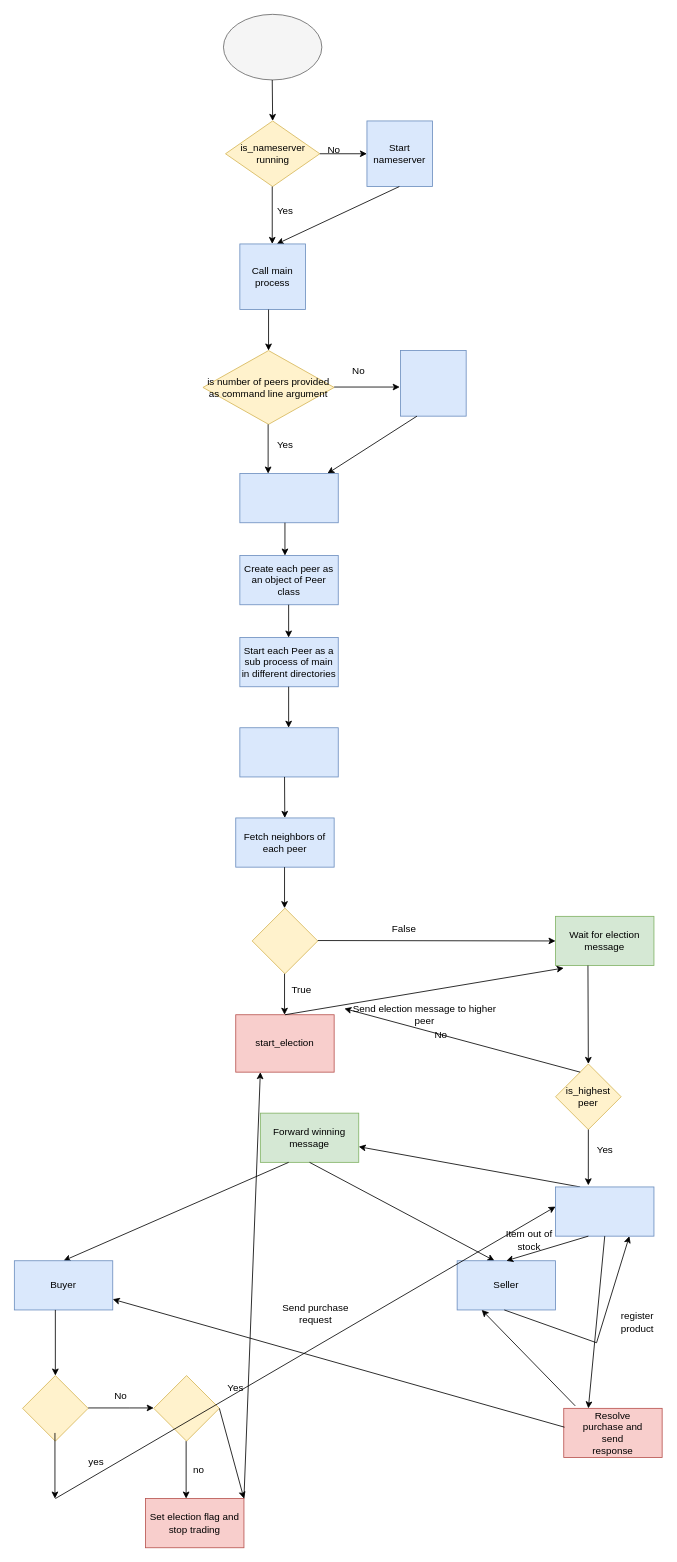
Image size: 677x1562. Some labels were removed from this diagram. Each missing label, with the centre of its shape:
"Become trader" goes at point 604,1211.
"Create and save Bazar" goes at point 288,498.
"Fetch default number of peers from config file" goes at point 433,383.
"is peer2" goes at point 284,940.
"is_peer0" goes at point 186,1408.
"is_trader_alive" goes at point 55,1408.
"Register each peer with Pyro Deamon and Pyro nameserver" goes at point 288,752.
"Start" goes at point 272,47.
